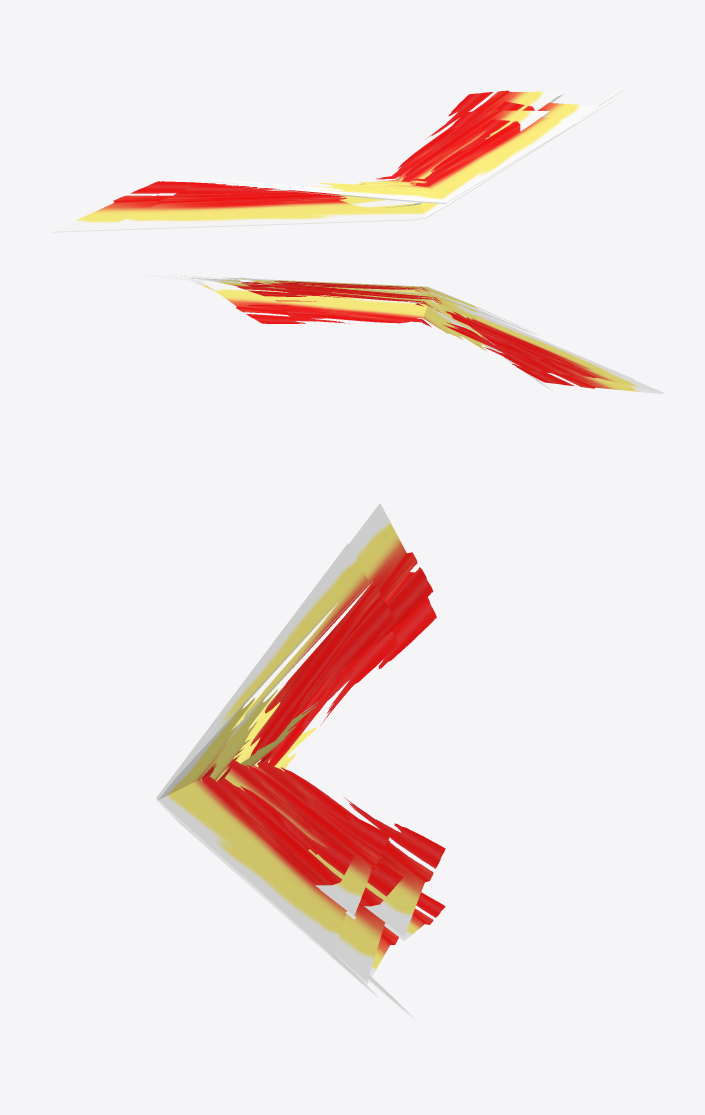
The model's file is effect_yntl_atk04_atk_donghua.fbx.
3 renders of one model, top to bottom at view 1: azimuth 30°, elevation 25°; view 2: azimuth 150°, elevation 25°; view 3: azimuth 270°, elevation 25°, orthographic. The views are drawn at different scales.
Visible parts, largest first — view 1: effect_yntl_daoguang_mo3_1, effect_yntl_daoguang_mo2_1, effect_yntl_daoguang_mo3_3, effect_yntl_daoguang_mo1_1, effect_yntl_daoguang_mo1_3, effect_yntl_daoguang_mo2_3, effect_yntl_daoguang_mo2_2; view 2: effect_yntl_daoguang_mo1_3, effect_yntl_daoguang_mo3_1, effect_yntl_daoguang_mo3_3, effect_yntl_daoguang_mo2_3, effect_yntl_daoguang_mo3_2, effect_yntl_daoguang_mo1_1, effect_yntl_daoguang_mo2_2, effect_yntl_daoguang_mo1_2, effect_yntl_daoguang_mo2_1; view 3: effect_yntl_daoguang_mo2_1, effect_yntl_daoguang_mo3_1, effect_yntl_daoguang_mo3_3, effect_yntl_daoguang_mo1_3, effect_yntl_daoguang_mo2_3, effect_yntl_daoguang_mo1_1, effect_yntl_daoguang_mo3_2, effect_yntl_daoguang_mo2_2.
Part boxes in pixels (x1,y1,x2,y2): effect_yntl_daoguang_mo3_1: (104,97,617,230); effect_yntl_daoguang_mo2_1: (218,117,580,203); effect_yntl_daoguang_mo3_3: (52,81,635,232); effect_yntl_daoguang_mo1_1: (339,109,549,207); effect_yntl_daoguang_mo1_3: (358,90,563,184); effect_yntl_daoguang_mo2_3: (187,101,600,190); effect_yntl_daoguang_mo2_2: (216,121,579,203); effect_yntl_daoguang_mo1_3: (201,278,553,391); effect_yntl_daoguang_mo3_1: (165,274,634,379); effect_yntl_daoguang_mo3_3: (133,274,664,394); effect_yntl_daoguang_mo2_3: (190,278,548,344); effect_yntl_daoguang_mo3_2: (167,274,633,379); effect_yntl_daoguang_mo1_1: (238,277,472,319); effect_yntl_daoguang_mo2_2: (222,277,538,335); effect_yntl_daoguang_mo1_2: (239,277,466,318); effect_yntl_daoguang_mo2_1: (225,277,532,333); effect_yntl_daoguang_mo2_1: (158,606,354,955); effect_yntl_daoguang_mo3_1: (156,543,397,997); effect_yntl_daoguang_mo3_3: (259,503,436,1019); effect_yntl_daoguang_mo1_3: (240,661,445,940); effect_yntl_daoguang_mo2_3: (200,581,403,984); effect_yntl_daoguang_mo1_1: (216,739,390,918); effect_yntl_daoguang_mo3_2: (156,614,397,998); effect_yntl_daoguang_mo2_2: (158,603,346,957).
Size of the model in its own units: 8.48 by 0.9872 by 2.34.
